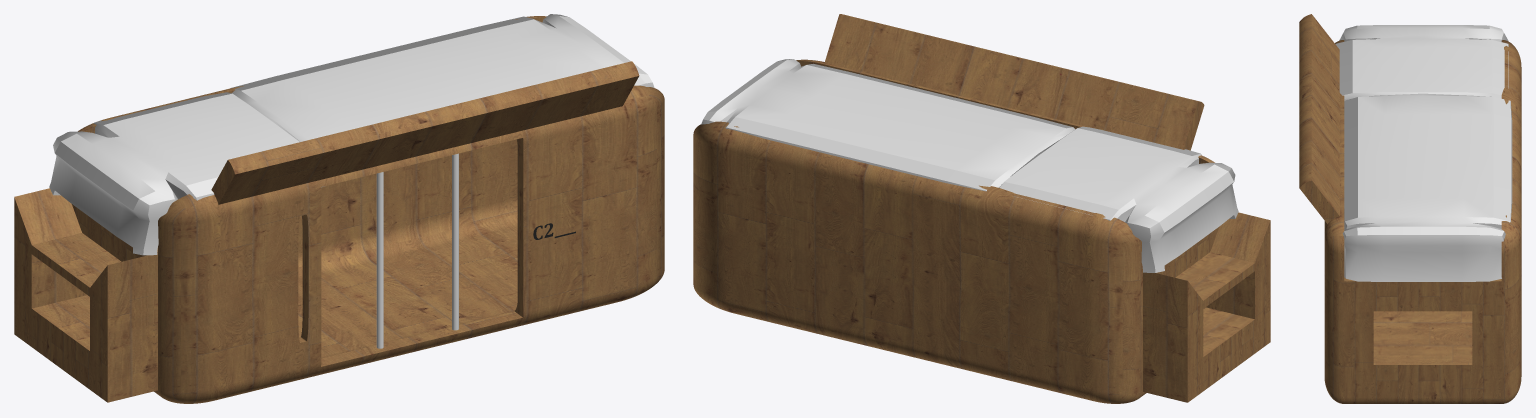
Rendered from crafting table.fbx.
The picture shows the model from 3 angles, left to right: view 1: azimuth 30°, elevation 25°; view 2: azimuth 150°, elevation 25°; view 3: azimuth 270°, elevation 25°; orthographic projection. The views are drawn at different scales.
Parts seen in each view (by area): view 1: obj1, obj6, obj2, obj3, obj4, obj5; view 2: obj1, obj6, obj3; view 3: obj6, obj1, obj2, obj3.
Part boxes in pixels (left/top/right/bottom): obj1: left=14, top=16, right=664, bottom=403; obj6: left=49, top=14, right=654, bottom=255; obj2: left=298, top=139, right=517, bottom=358; obj3: left=31, top=17, right=545, bottom=366; obj4: left=376, top=172, right=383, bottom=348; obj5: left=452, top=153, right=458, bottom=330; obj1: left=693, top=14, right=1270, bottom=403; obj6: left=701, top=59, right=1238, bottom=272; obj3: left=797, top=61, right=1254, bottom=356; obj6: left=1335, top=25, right=1512, bottom=281; obj1: left=1299, top=14, right=1521, bottom=403; obj2: left=1373, top=311, right=1472, bottom=362; obj3: left=1344, top=277, right=1501, bottom=364.
Bounding box in the file's own units: 553 × 240 × 225.
Materials: 4 (1 with a texture image).
